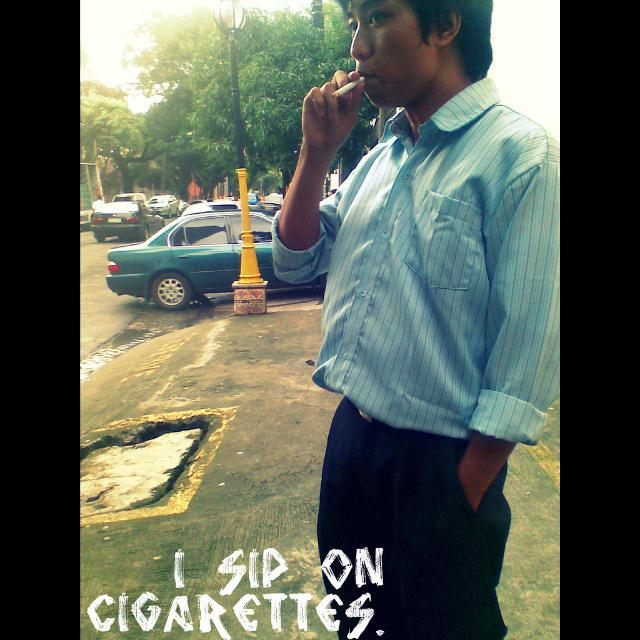rokok: (328, 72, 367, 104)
